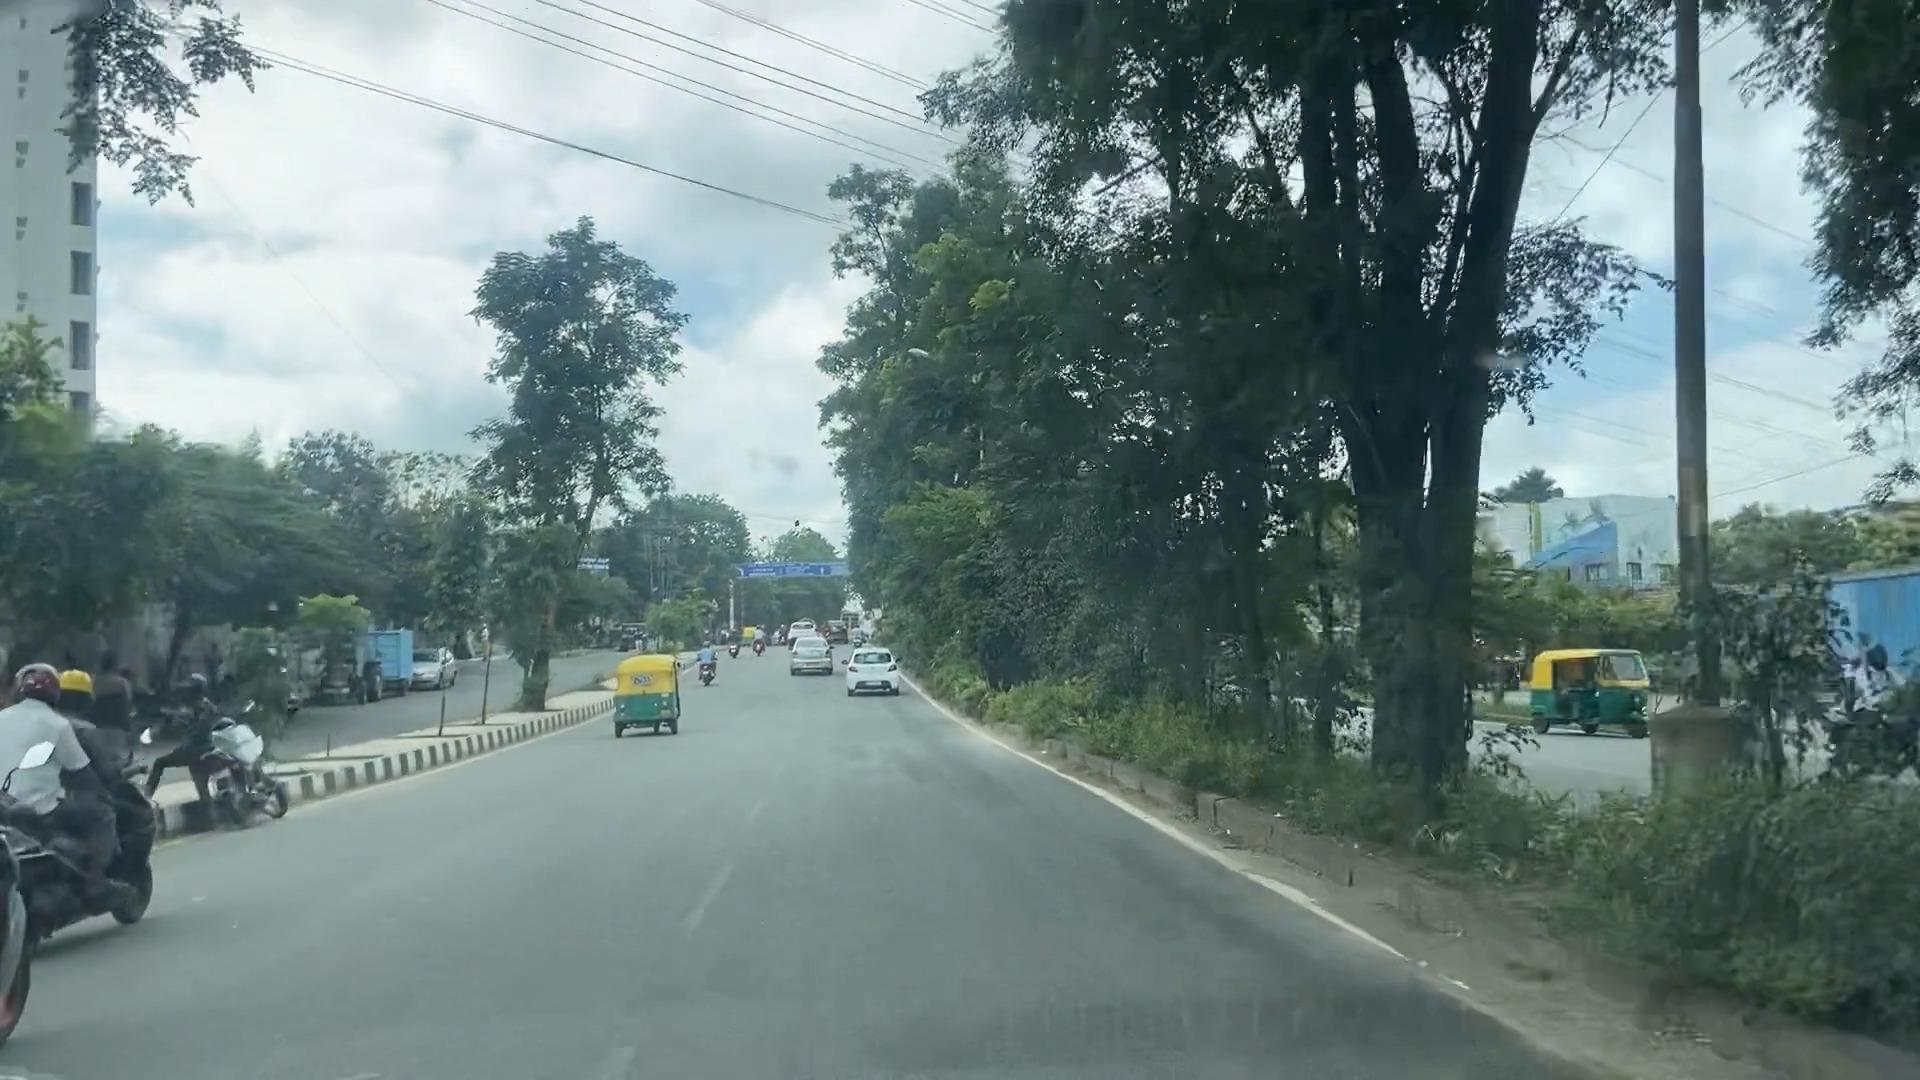LMV: (615, 650, 679, 732), (848, 647, 894, 696), (790, 634, 828, 673)
